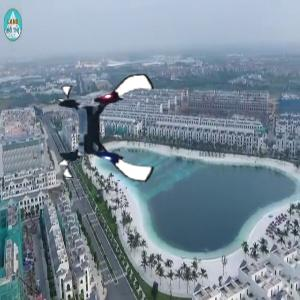drone: (53, 72, 165, 184)
